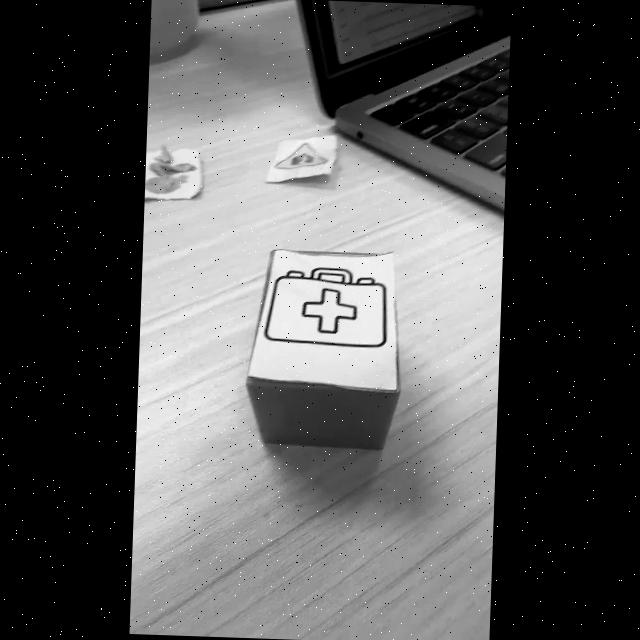Medkit: (265, 261, 389, 348)
